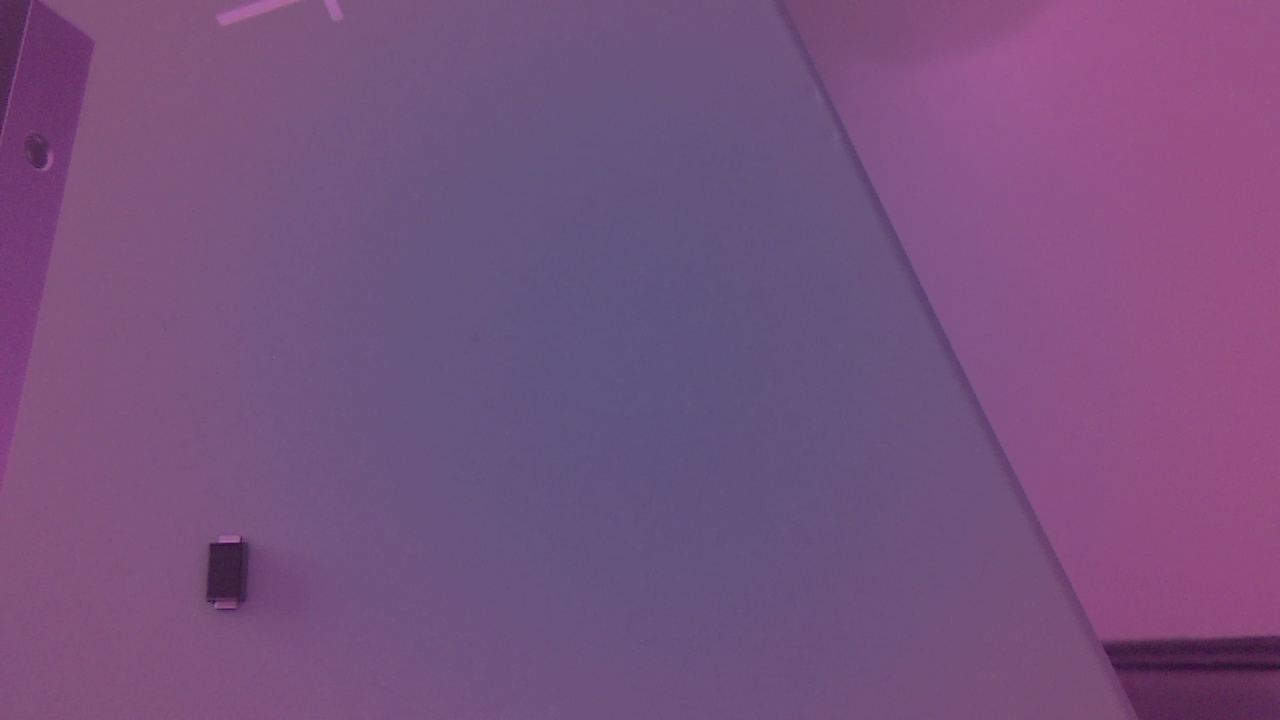Diode: (203, 534, 257, 620)
